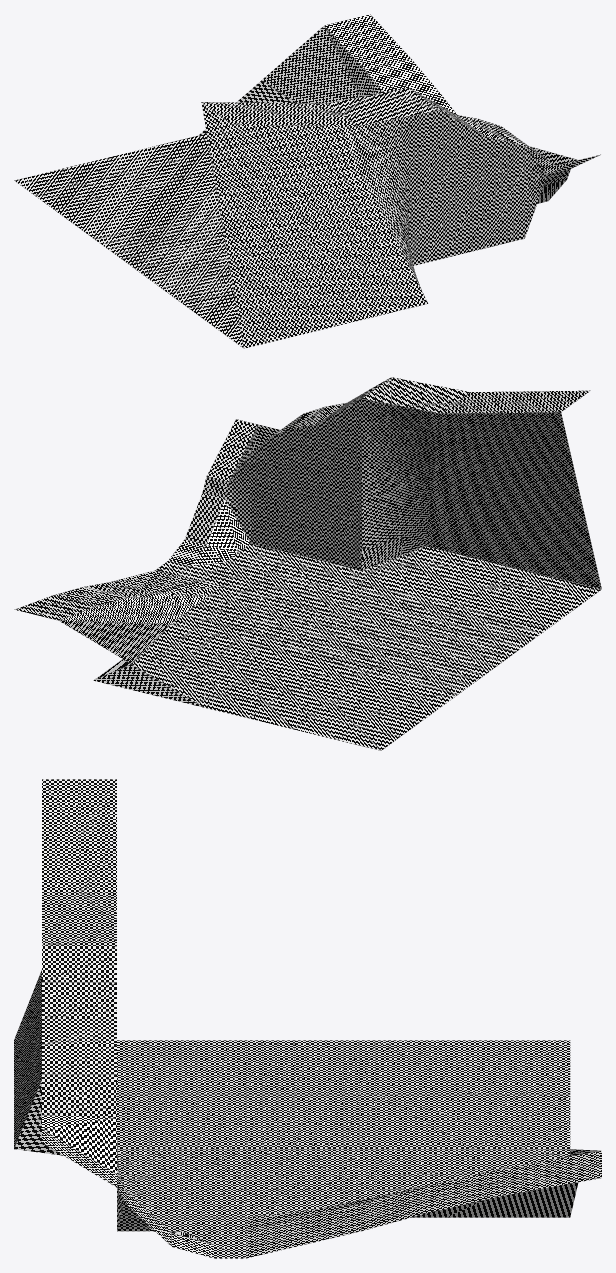
File: bakedTest30samp.gltf
The picture shows the model from 3 angles, top to bottom: view 1: azimuth 30°, elevation 25°; view 2: azimuth 150°, elevation 25°; view 3: azimuth 270°, elevation 25°; orthographic projection. The views are drawn at different scales.
Parts seen in each view (by area): view 1: Plane; view 2: Plane; view 3: Plane.
Boxes of the visible parts, x1,y1,x2,y2 form: Plane: (14,14,600,348); Plane: (14,377,601,750); Plane: (14,779,601,1258).
Size of the model in its own units: 79.84 by 44.49 by 90.9.
Materials: 1 (1 with a texture image).
